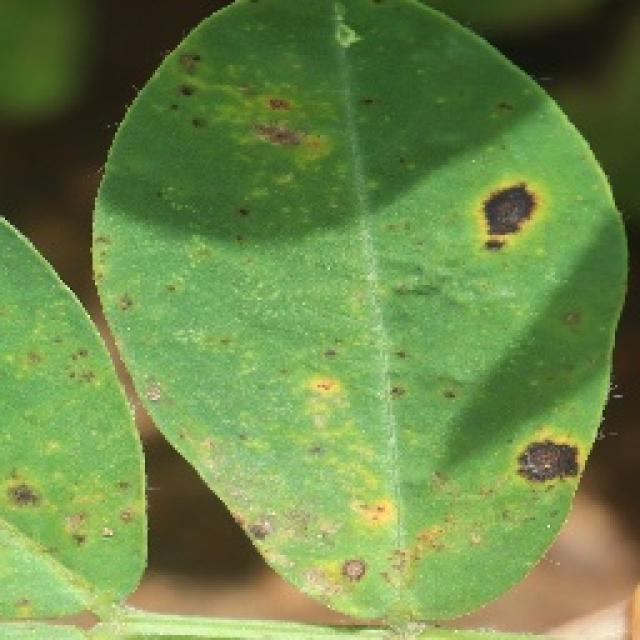Early_leaf_spot: (131, 98, 440, 456), (0, 286, 126, 570), (180, 469, 376, 591), (172, 37, 316, 183), (444, 156, 554, 271), (489, 412, 598, 517)
